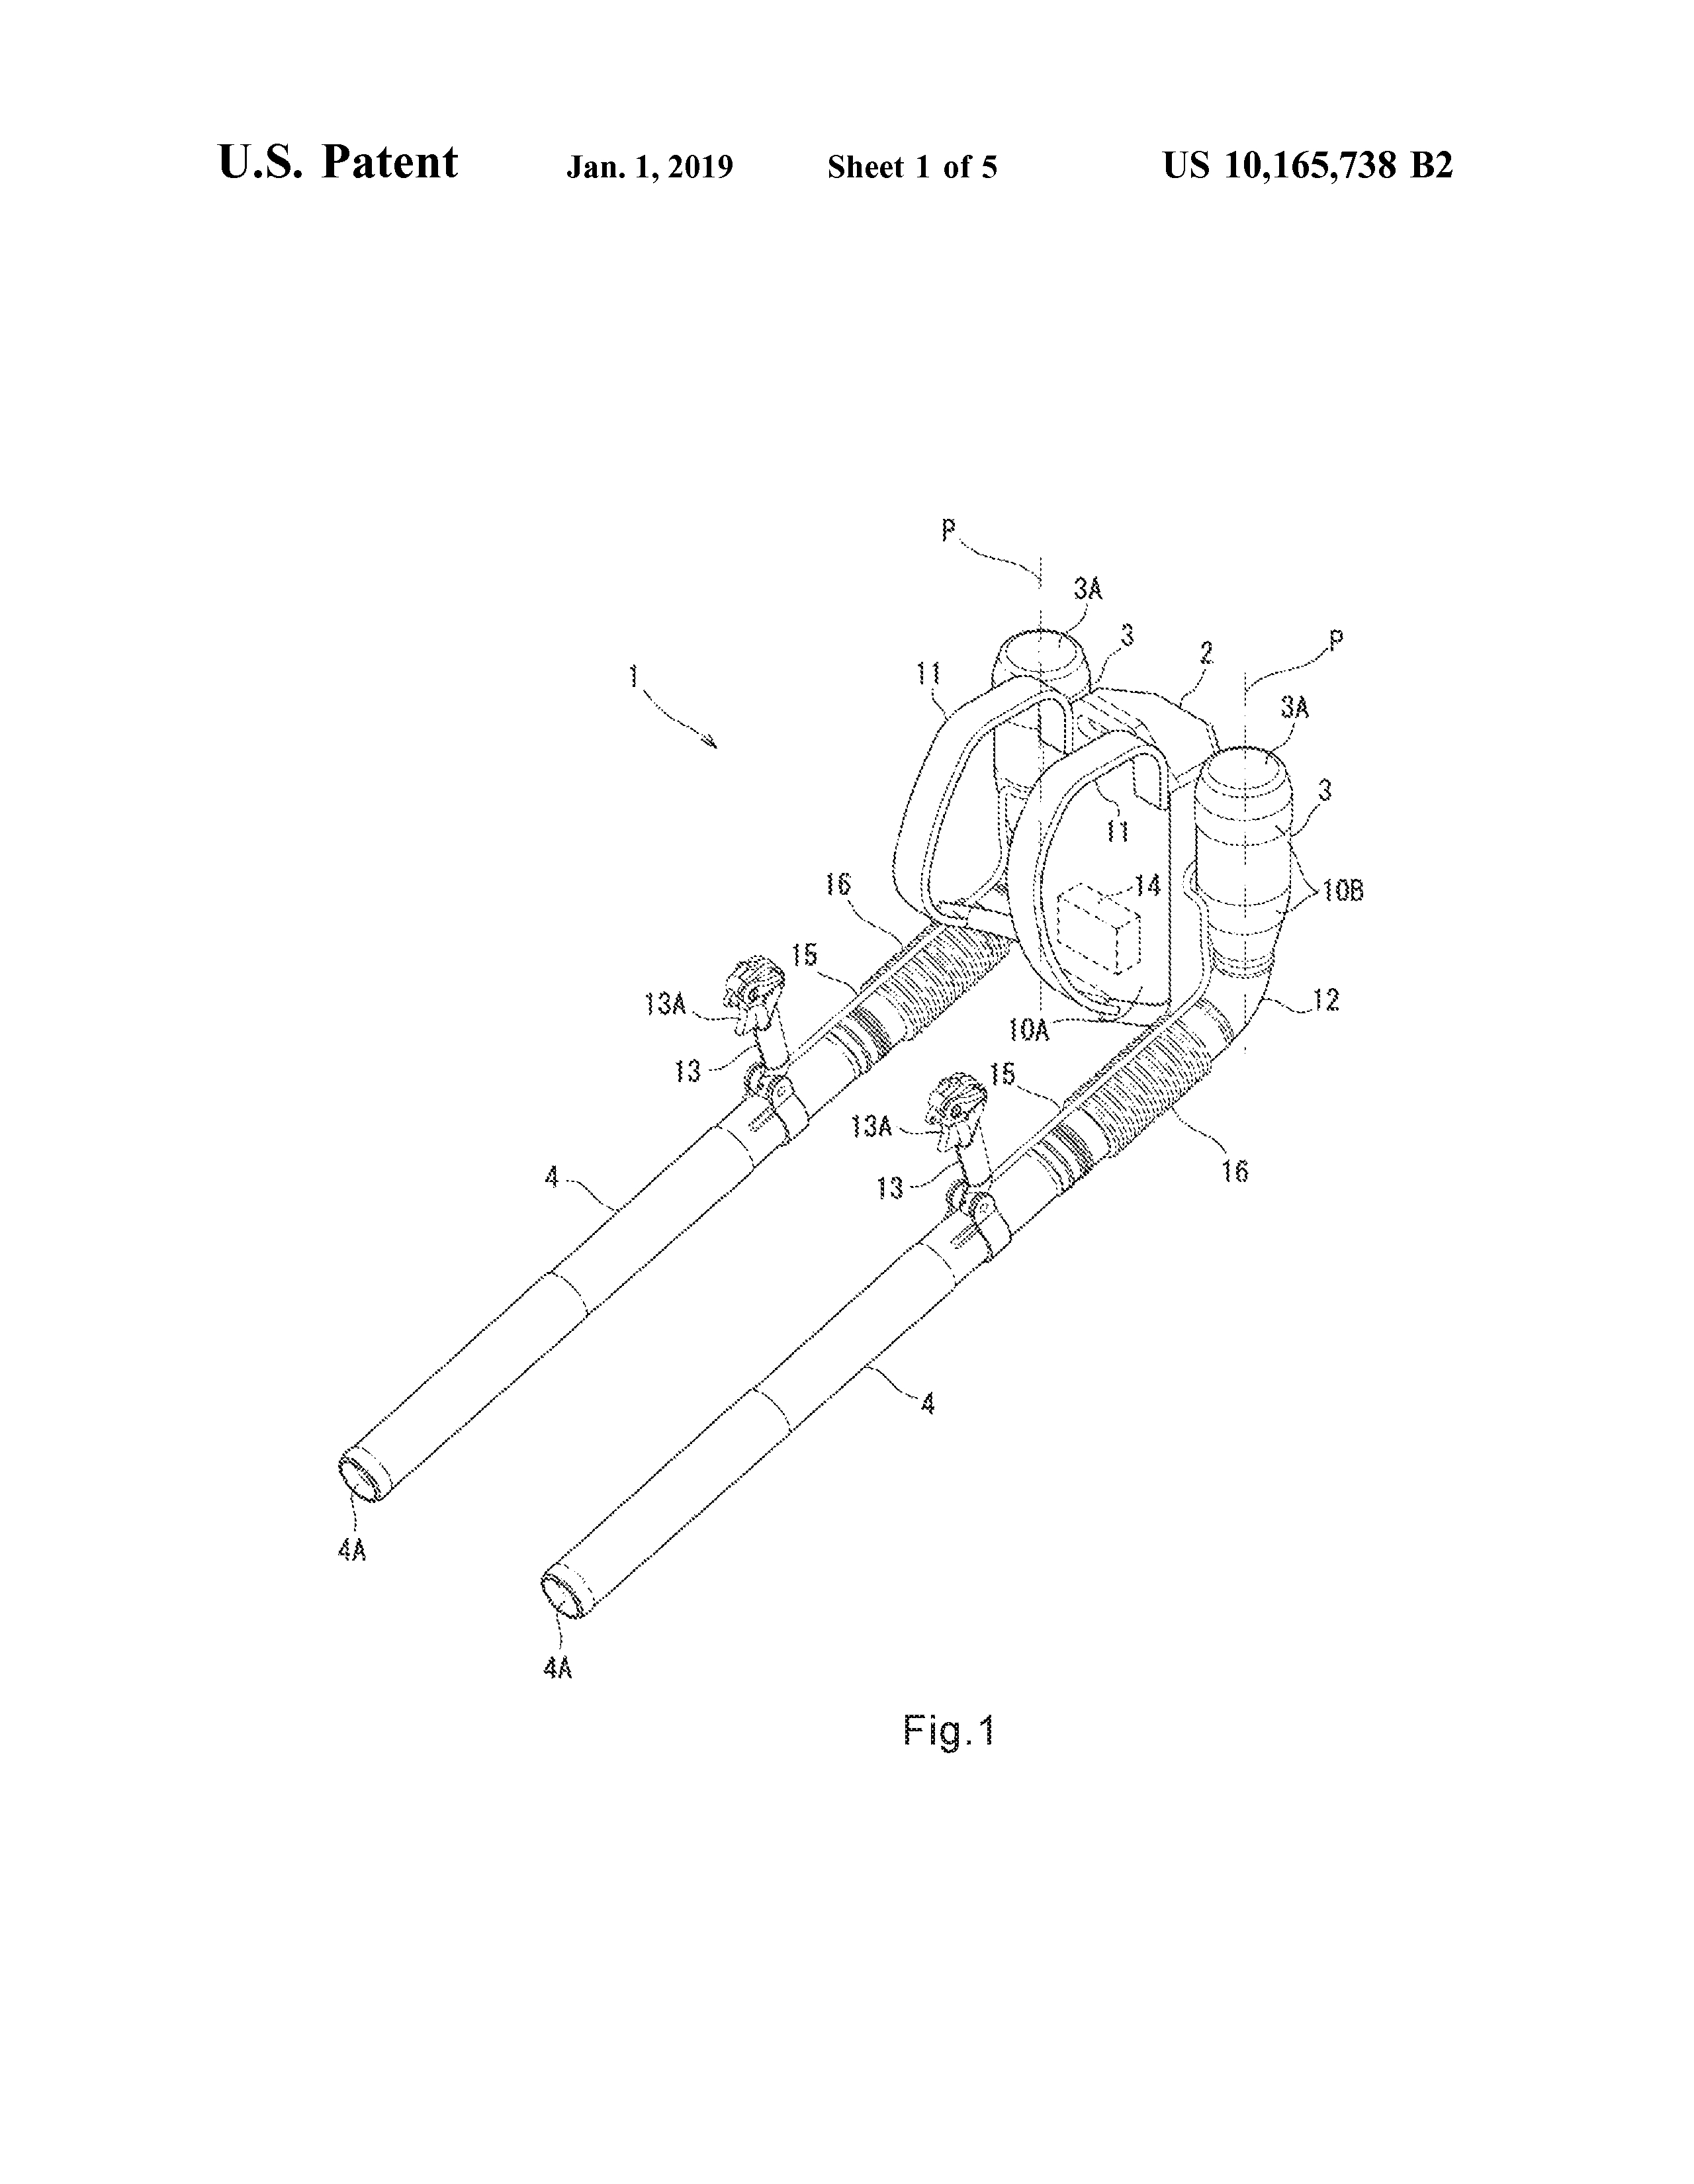patent image: (267, 417, 1432, 1841)
